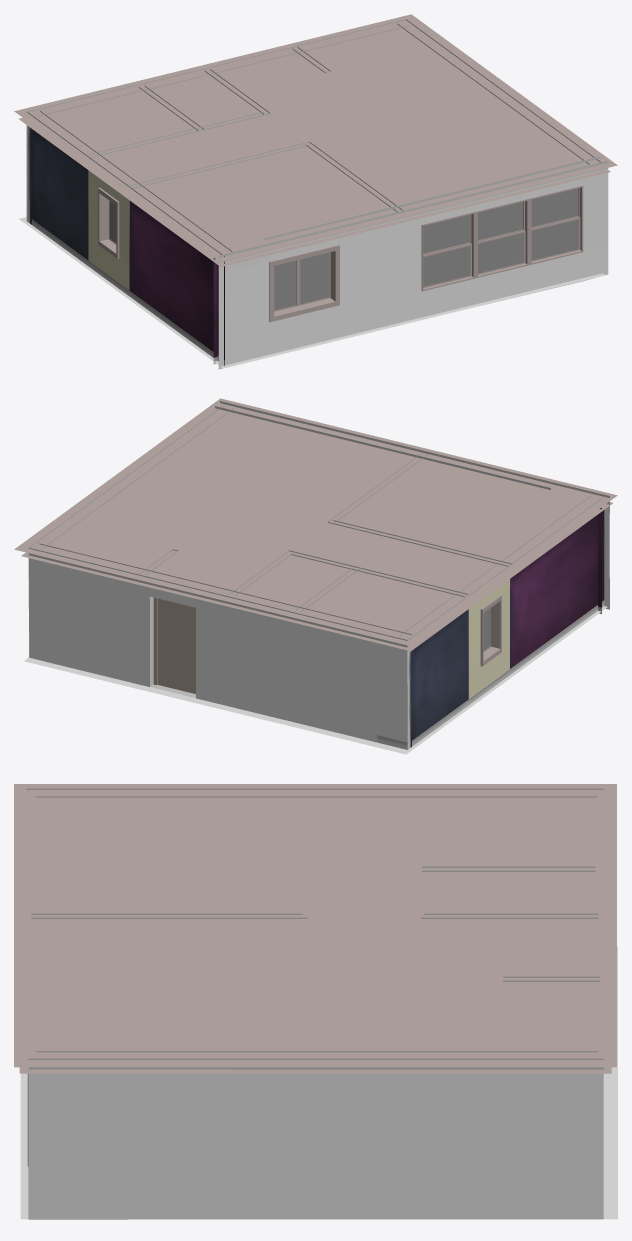
The model's file is appartamento_porta2.FBX.
The picture shows the model from 3 angles, top to bottom: view 1: azimuth 30°, elevation 25°; view 2: azimuth 150°, elevation 25°; view 3: azimuth 270°, elevation 25°; orthographic projection. The views are drawn at different scales.
Visible parts, largest first — view 1: soffitto001, muri, finestra salotto, INFISSO CAMERA DA LETTO, soffitto, Plane001, INFISSO CAMERA DA LETTO001; view 2: soffitto001, muri, PORTA 002, Plane001, soffitto, INFISSO CAMERA DA LETTO001; view 3: soffitto001, muri, Plane001, soffitto, pavimento vero.
Part boxes in pixels (bbox=[...]): soffitto001: bbox=[14, 14, 617, 262]; muri: bbox=[26, 19, 608, 369]; finestra salotto: bbox=[421, 185, 583, 291]; INFISSO CAMERA DA LETTO: bbox=[269, 245, 339, 322]; soffitto: bbox=[18, 117, 610, 266]; Plane001: bbox=[19, 217, 604, 368]; INFISSO CAMERA DA LETTO001: bbox=[98, 187, 119, 258]; soffitto001: bbox=[14, 398, 617, 646]; muri: bbox=[28, 401, 609, 749]; PORTA 002: bbox=[153, 597, 195, 693]; Plane001: bbox=[24, 604, 610, 754]; soffitto: bbox=[21, 502, 612, 651]; INFISSO CAMERA DA LETTO001: bbox=[480, 595, 501, 666]; soffitto001: bbox=[14, 784, 616, 1067]; muri: bbox=[26, 788, 604, 1219]; Plane001: bbox=[20, 946, 617, 1219]; soffitto: bbox=[19, 1067, 611, 1073]; pavimento vero: bbox=[28, 1166, 603, 1219].
Size of the model in its own units: 413 by 117 by 372.
